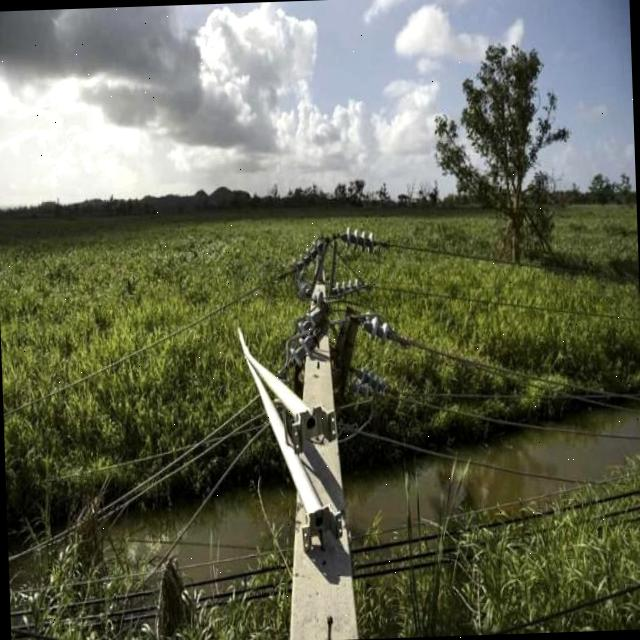Broken Pole: (237, 228, 402, 640)
